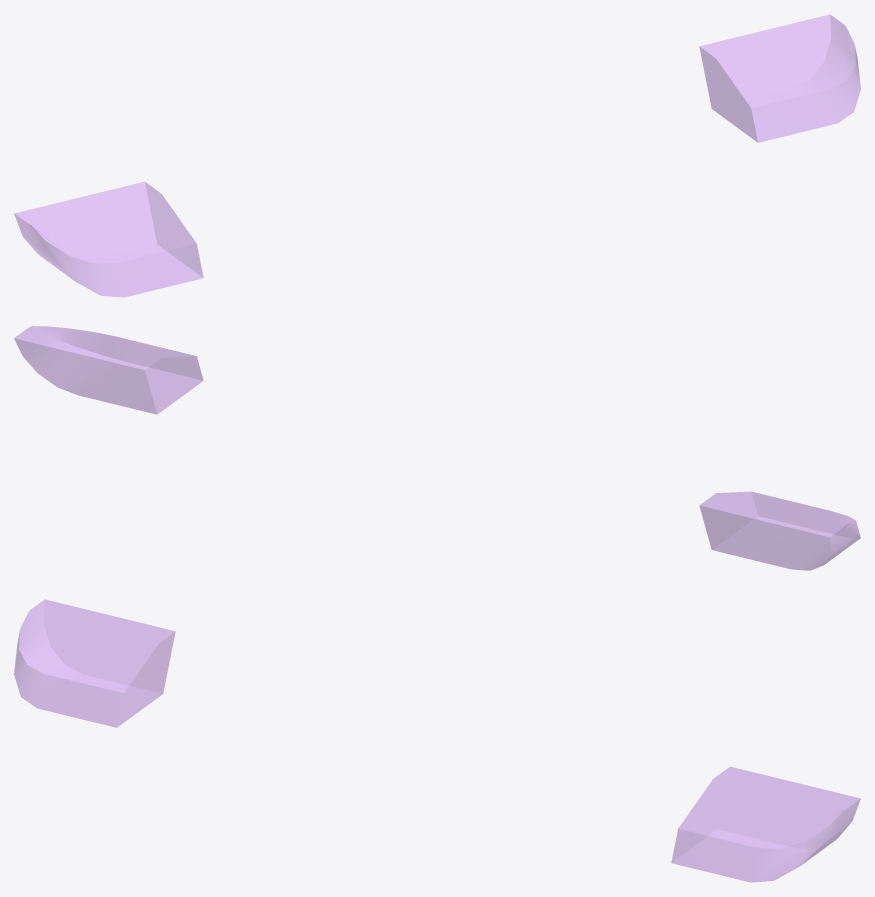
File: acc_eyeline_purple.glb
The picture shows the model from 3 angles, top to bottom: view 1: azimuth 30°, elevation 25°; view 2: azimuth 150°, elevation 25°; view 3: azimuth 330°, elevation 25°; orthographic projection.
Visible parts, largest first — view 1: acc_eyeline_purple_mesh; view 2: acc_eyeline_purple_mesh; view 3: acc_eyeline_purple_mesh.
Boxes of the visible parts, box(x1,y1,x2,y2) form: acc_eyeline_purple_mesh: box(14, 14, 860, 297); acc_eyeline_purple_mesh: box(14, 326, 860, 570); acc_eyeline_purple_mesh: box(14, 599, 860, 882).
Size of the model in its own units: 1.78 by 0.1115 by 0.2217.
